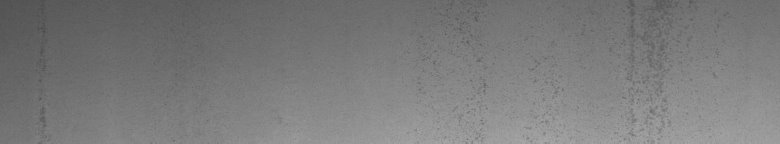ib: (424, 12, 560, 124)
